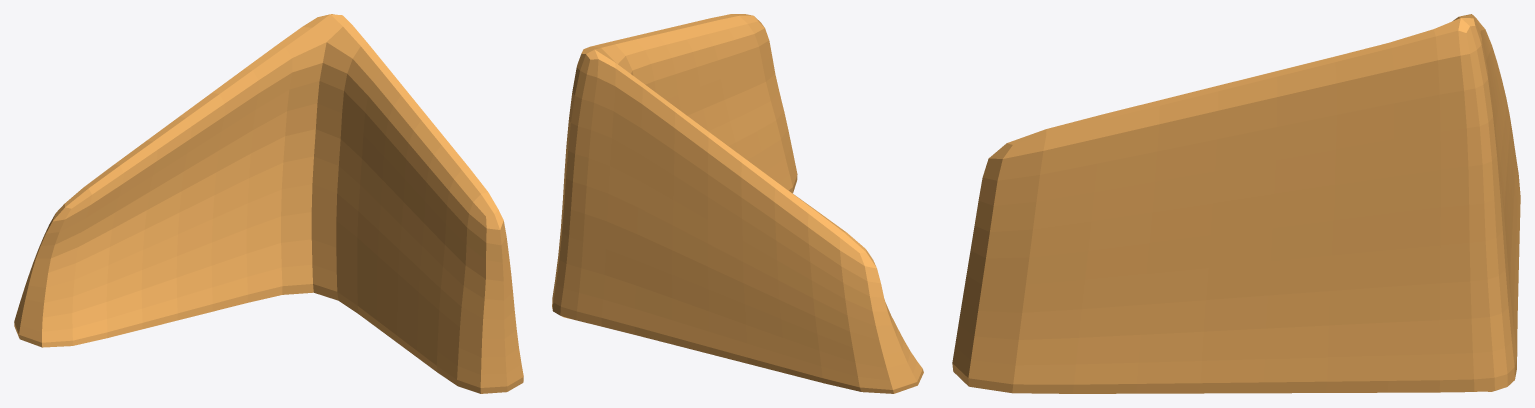
File: IsometricTile_Between_Obstacle_1.fbx
3 views of the same model, side by side, from view 1: azimuth 30°, elevation 25°; view 2: azimuth 150°, elevation 25°; view 3: azimuth 270°, elevation 25° (orthographic). The views are drawn at different scales.
Visible parts, largest first — view 1: Cube.003; view 2: Cube.003; view 3: Cube.003.
Part boxes in pixels (<box>): Cube.003: <box>14,14,523,393</box>; Cube.003: <box>552,14,923,393</box>; Cube.003: <box>952,14,1520,393</box>.
Bounding box in the file's own units: 0.9986 × 1 × 0.6957.
